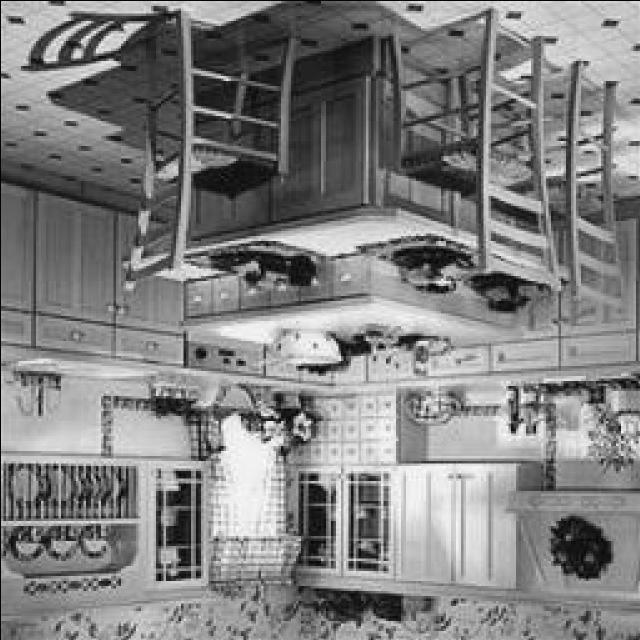chair: (114, 13, 300, 289), (388, 13, 563, 291), (499, 60, 626, 318)
